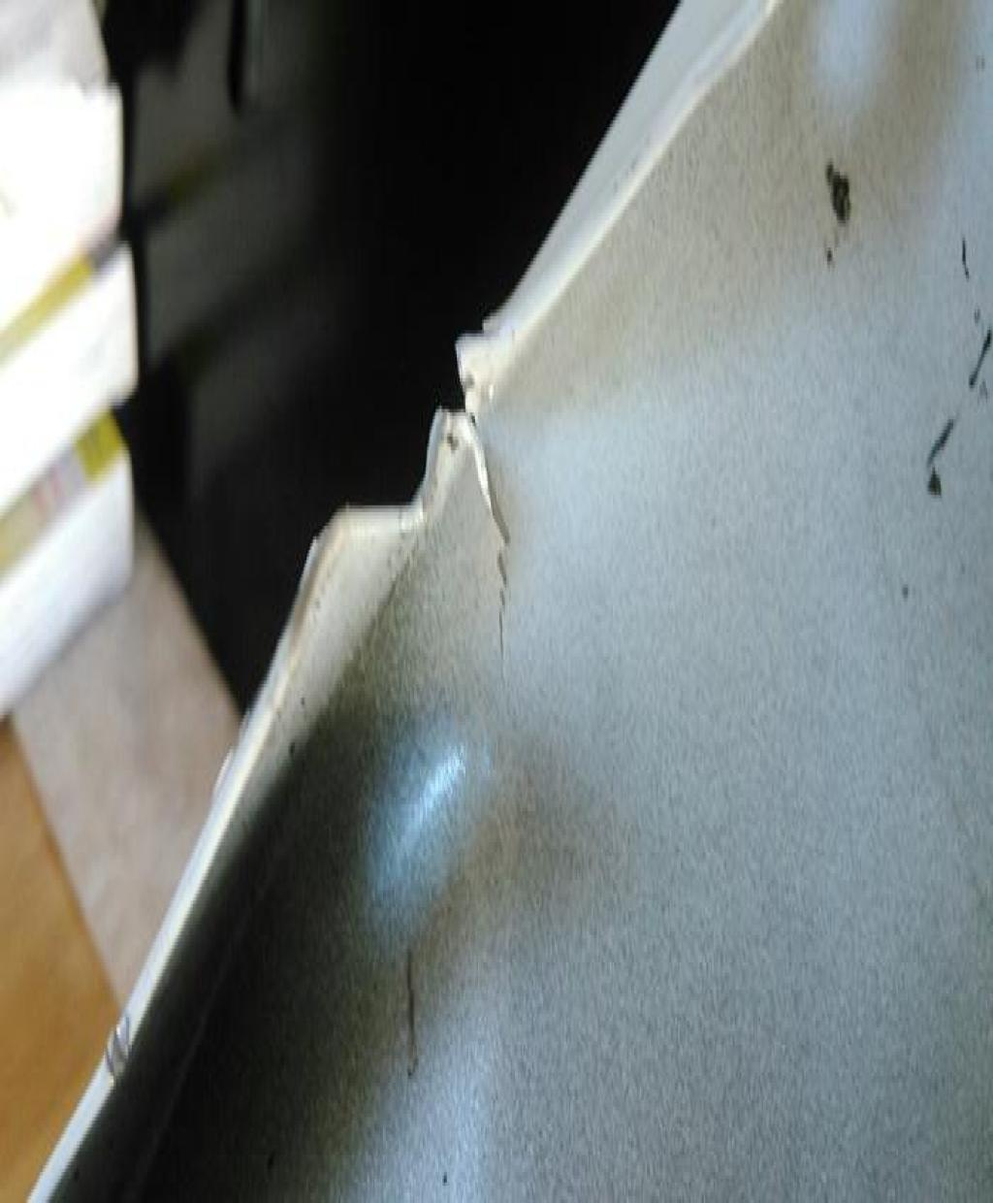crack: (317, 318, 517, 686)
